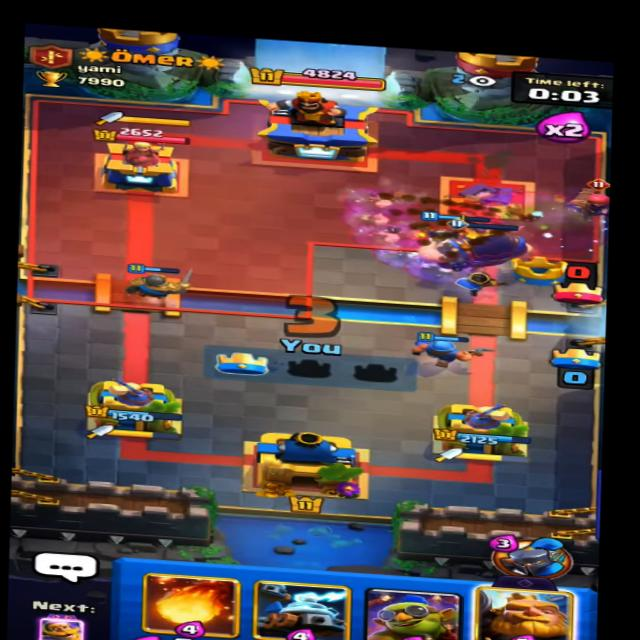evo-firecracker: (557, 175, 623, 226)
